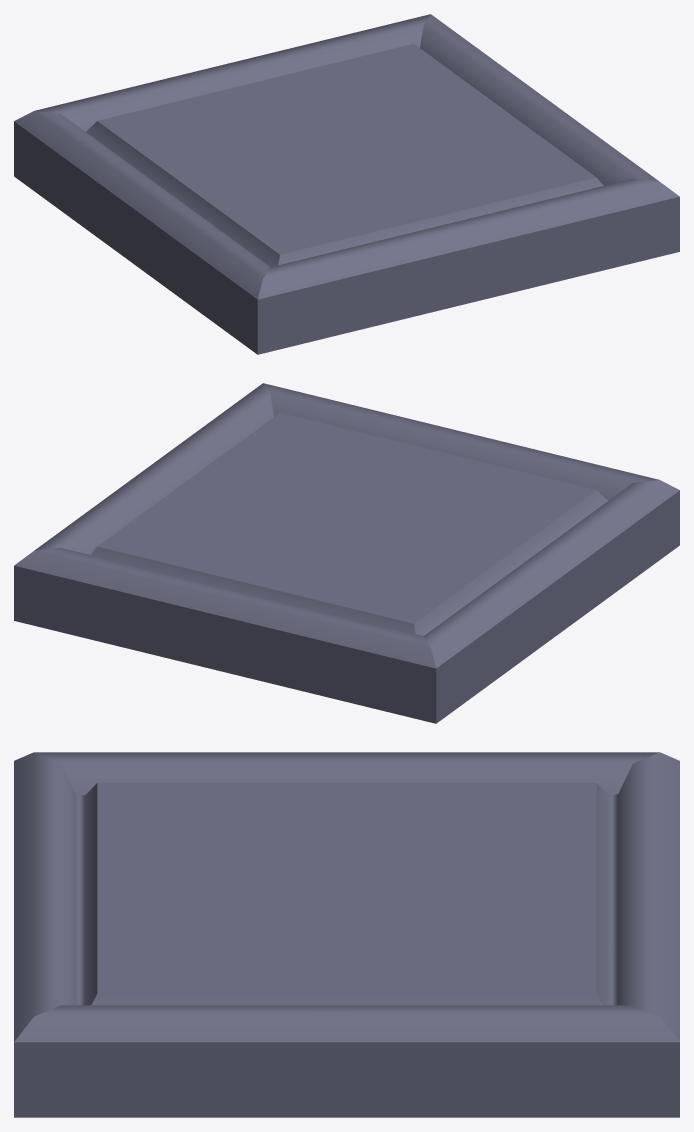
The model's file is floor_tile_new.fbx.
3 views of the same model, one above another, from view 1: azimuth 30°, elevation 25°; view 2: azimuth 150°, elevation 25°; view 3: azimuth 270°, elevation 25° (orthographic). The views are drawn at different scales.
Visible parts, largest first — view 1: floor_tile_new; view 2: floor_tile_new; view 3: floor_tile_new.
Boxes of the visible parts, x1,y1,x2,y2 form: floor_tile_new: [14, 14, 679, 354]; floor_tile_new: [14, 383, 679, 723]; floor_tile_new: [14, 752, 679, 1117].
Size of the model in its own units: 256 by 39.26 by 256.
